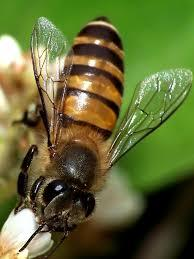Apis-mellifera-scutellata: (16, 1, 183, 250)
